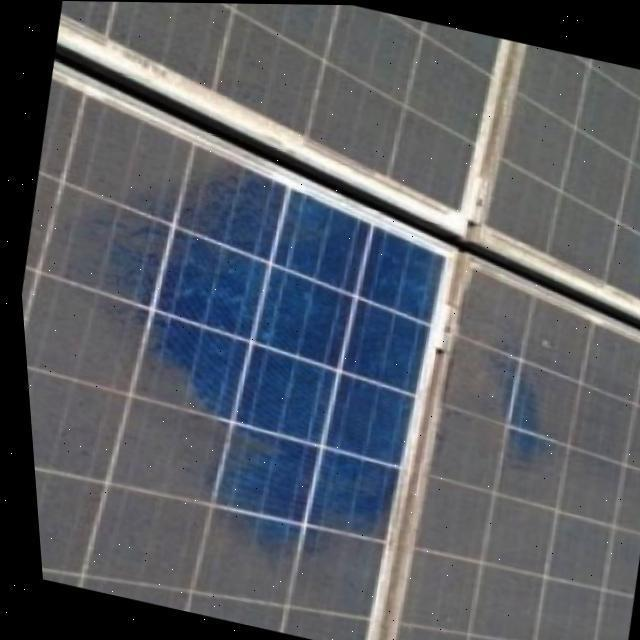Surface Contaminant: (17, 68, 377, 640), (57, 1, 513, 231), (380, 260, 640, 640), (470, 41, 640, 319)
